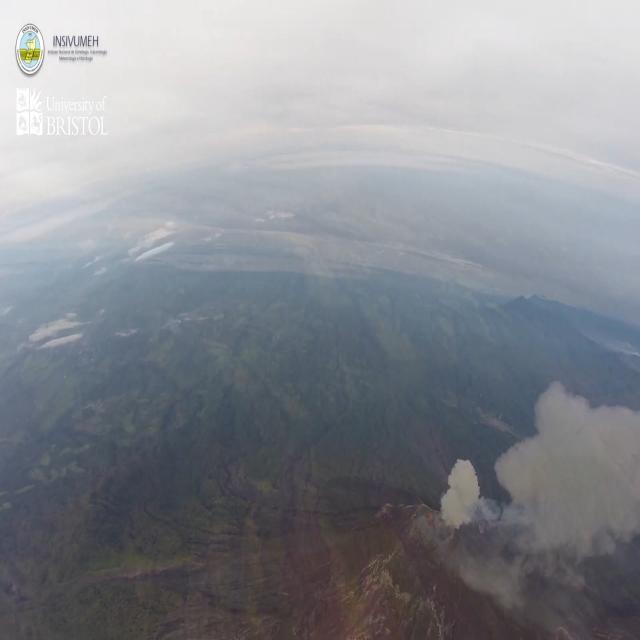Plume: (501, 377, 640, 558), (442, 450, 478, 536)
